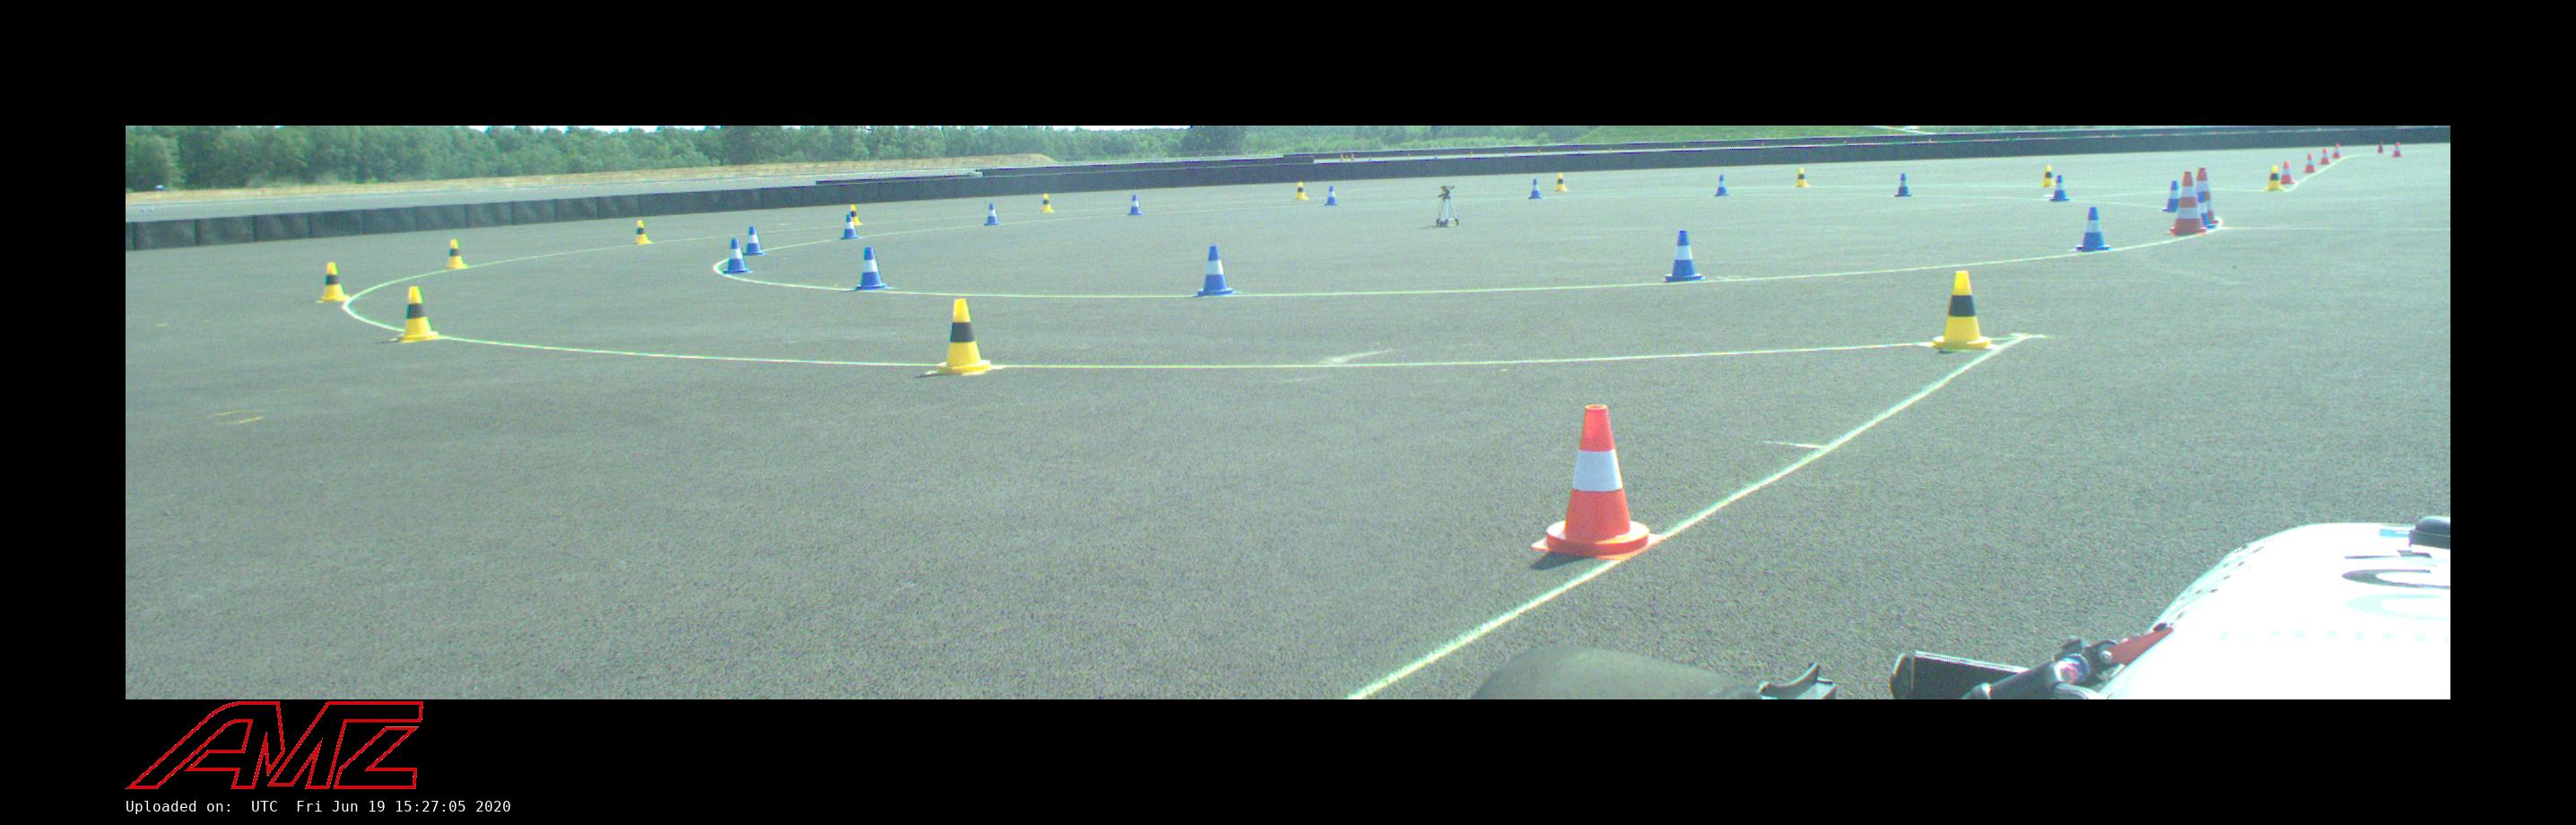blue_cone: (1194, 247, 1240, 296), (1663, 230, 1702, 281), (854, 247, 895, 289), (2075, 207, 2109, 251), (721, 238, 754, 274), (2192, 191, 2216, 228), (2160, 181, 2185, 212), (743, 227, 767, 255), (2049, 174, 2070, 202), (840, 215, 864, 238), (1893, 173, 1914, 197), (982, 202, 1002, 225), (1322, 184, 1341, 207), (1129, 194, 1145, 215), (1714, 174, 1728, 196), (1528, 179, 1543, 199)
large_orange_cone: (2167, 171, 2208, 237), (2183, 166, 2219, 227)
orange_cone: (1531, 406, 1666, 559), (2279, 161, 2295, 184), (2302, 153, 2316, 173), (2331, 143, 2343, 158), (2320, 148, 2330, 164), (2392, 141, 2402, 156)
yellow_cone: (1929, 271, 1996, 350), (933, 297, 991, 375), (393, 288, 440, 343), (319, 263, 353, 302), (444, 240, 468, 270), (2262, 166, 2285, 191), (632, 220, 652, 243), (2039, 164, 2055, 187), (846, 204, 862, 225), (1794, 168, 1810, 187), (1295, 181, 1309, 200), (1040, 194, 1055, 212), (1554, 173, 1567, 192)
